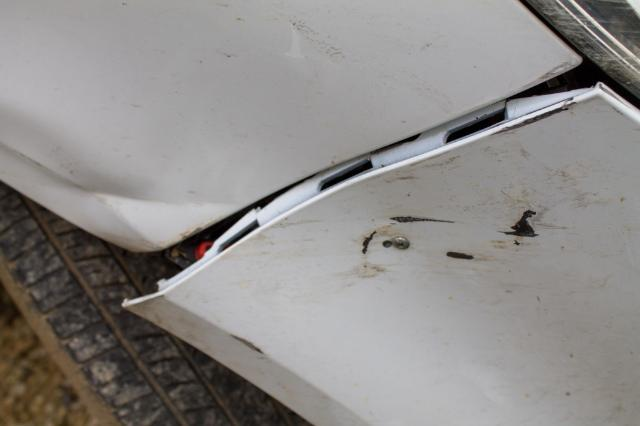dislocated part: (122, 62, 640, 426)
scratch: (224, 102, 636, 300)
